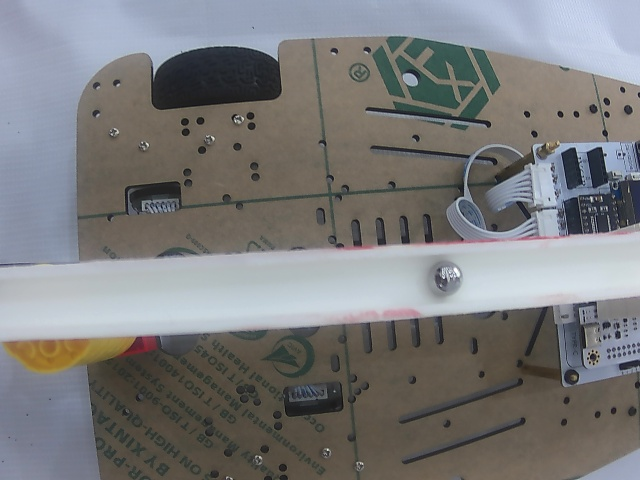steelball: (428, 260, 463, 297)
